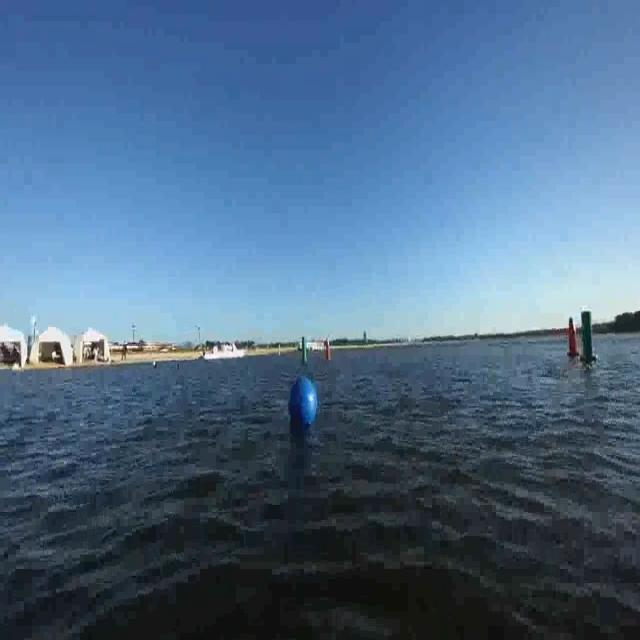blue-buoy: (289, 374, 319, 431)
green-column-buoy: (580, 310, 598, 366)
red-column-buoy: (566, 320, 579, 361)
